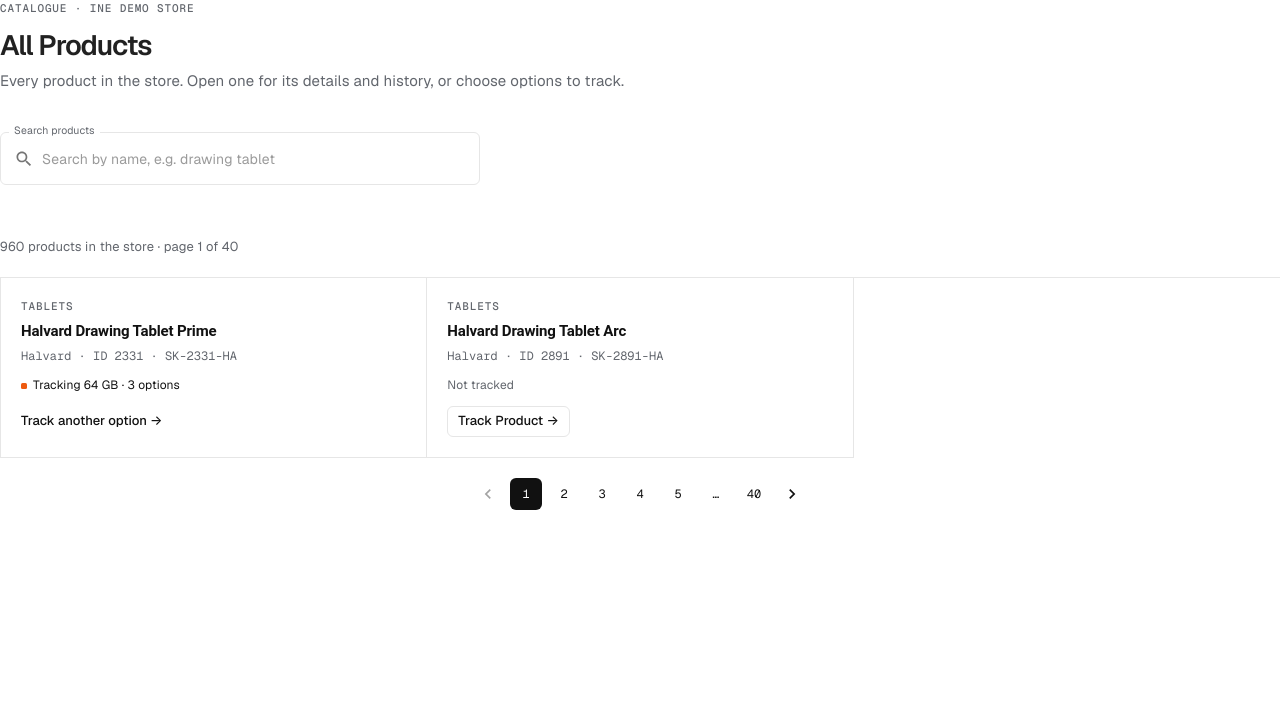
Test: All Products › tracks the chosen option through the existing flow and updates the card
Click the button named "Track another option: Halvard Drawing Tablet Prime" at {"x": 92, "y": 422}, box [11, 406, 172, 437]
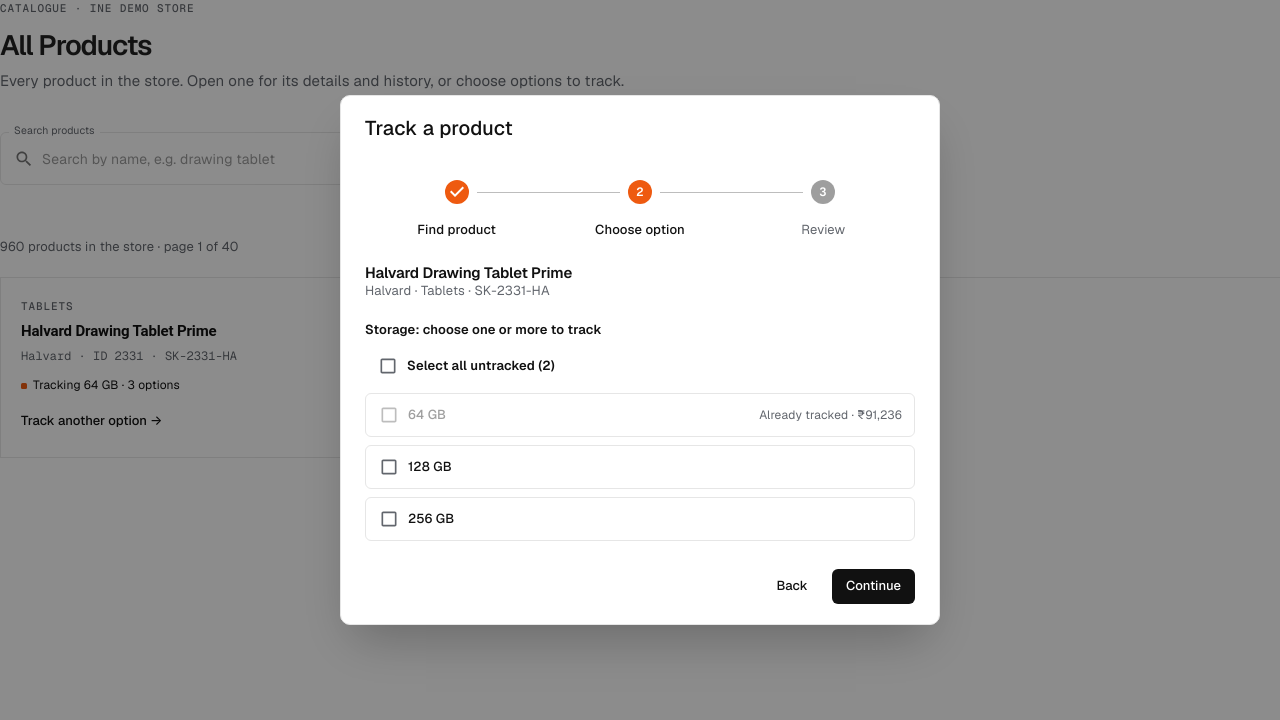
Click the checkbox labelled "128 GB" at {"x": 430, "y": 467}, box [365, 445, 915, 489]
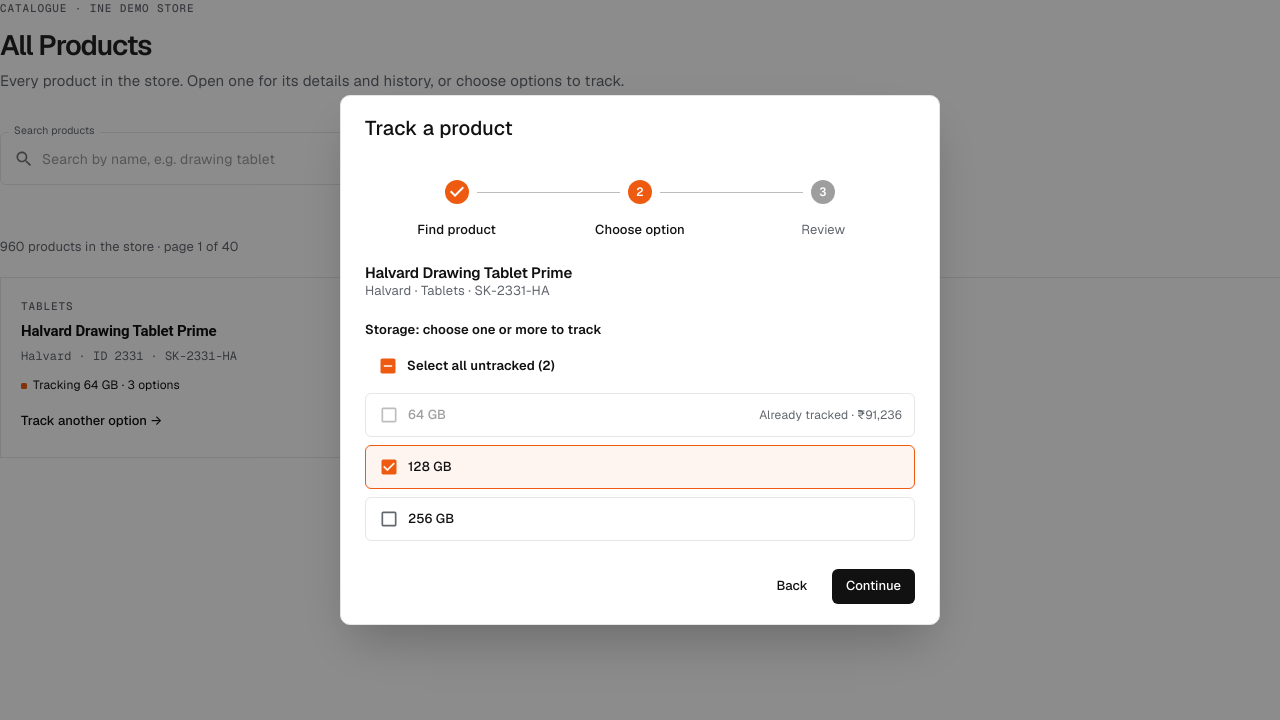
Click the button "Continue" at {"x": 874, "y": 587}, box [832, 569, 915, 604]
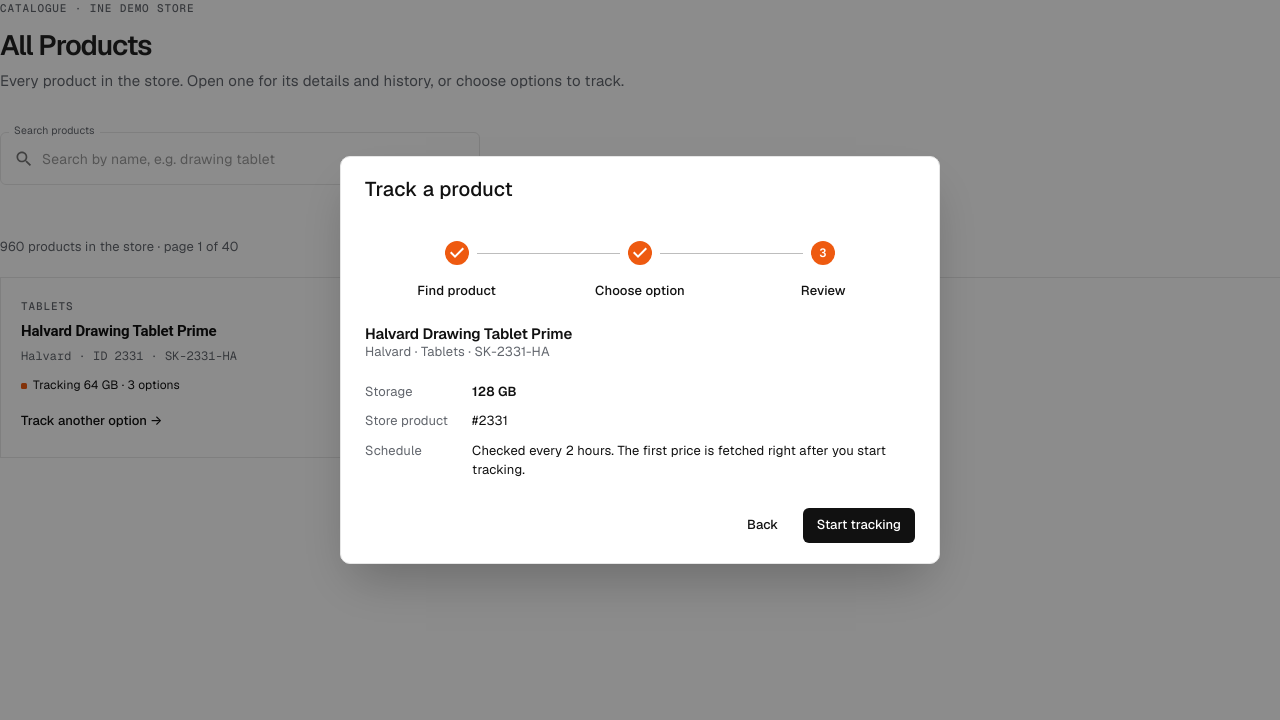
Click the button "Start tracking" at {"x": 859, "y": 525}, box [803, 508, 915, 543]
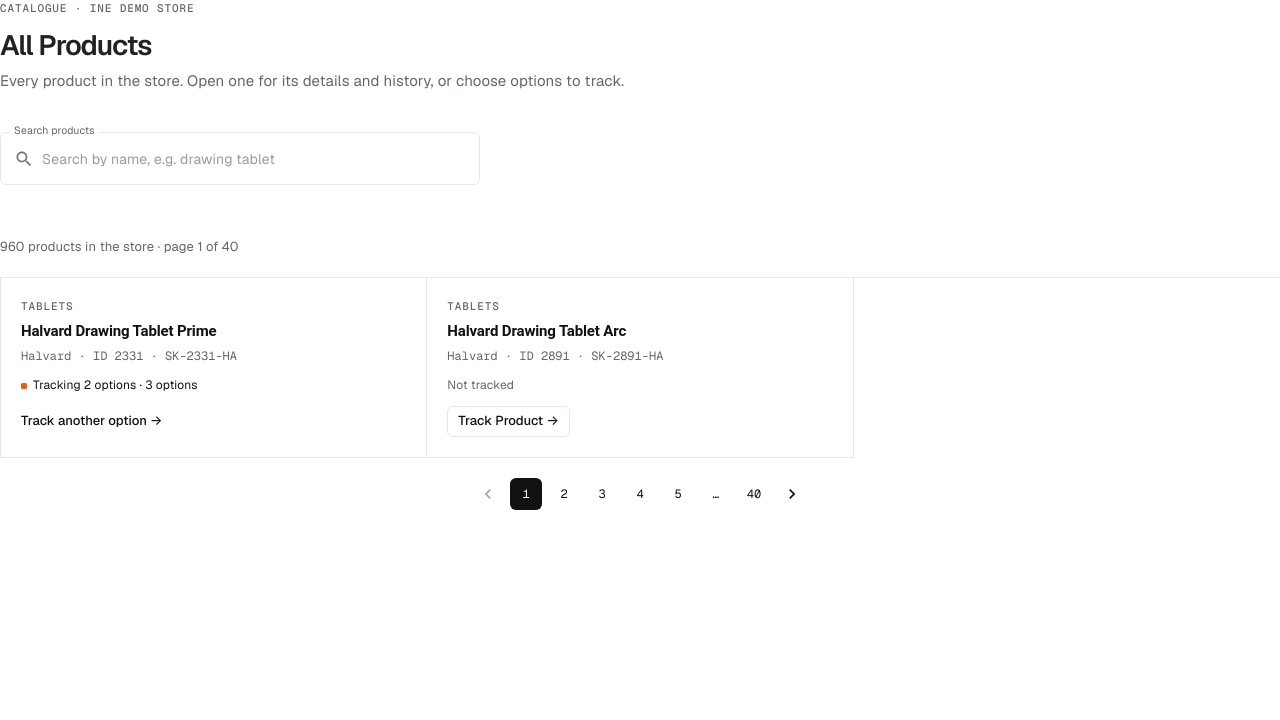
Now the dialog is gone
Now the text "Tracking 2 options · 3 options" is shown, box [33, 377, 136, 393]
